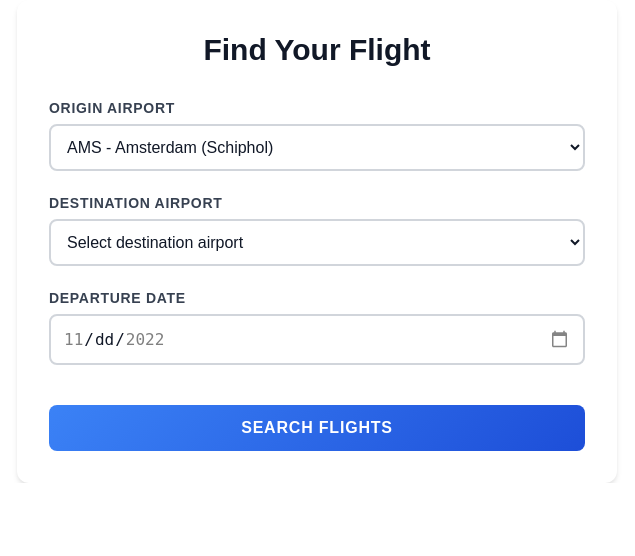
Scenario: SearchForm Component › Form validation › shows error when no destination is selected
The image size is (635, 556).
Click the button "Search Flights" at [317, 428], box [49, 405, 585, 451]
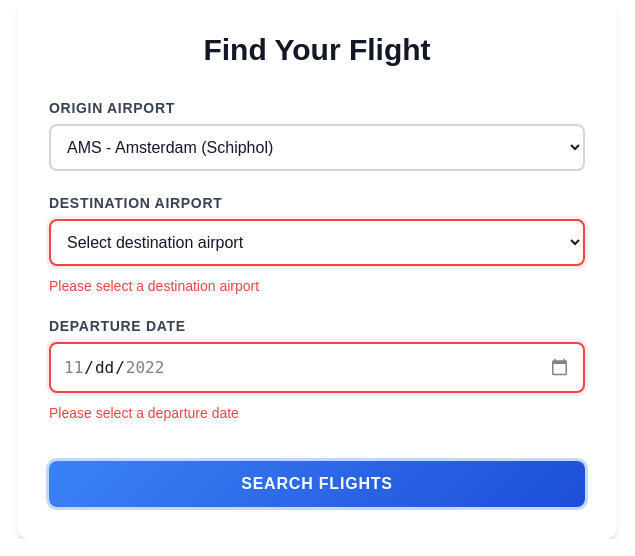
Now the text "Please select a destination airport" is shown, box [49, 278, 259, 294]
